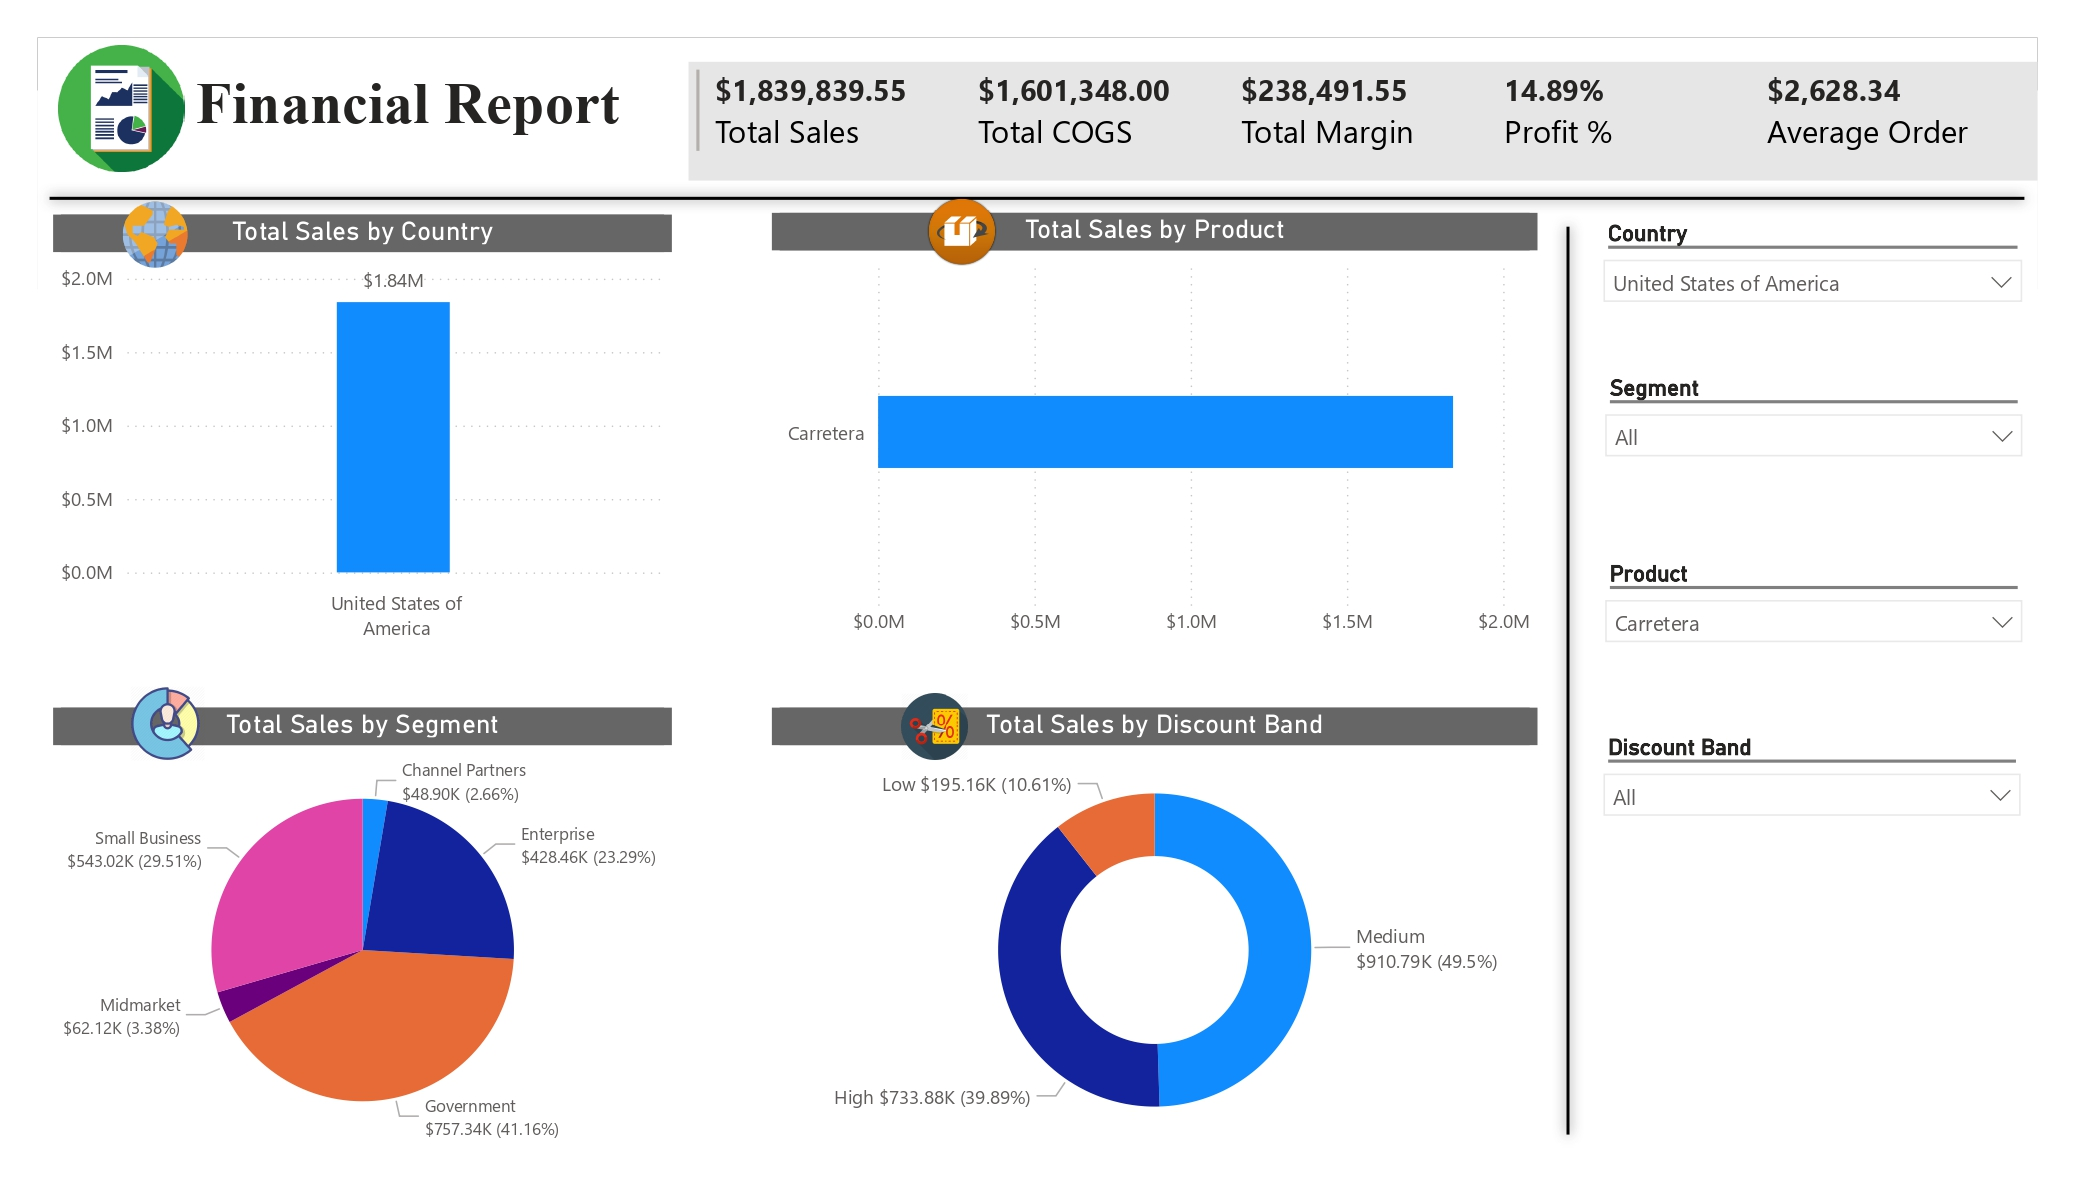

The page's visual inventory and layout, read from the dashboard file:
{"tool":"powerbi","page":{"name":"Financial Report","canvas":[1280,720],"ordinal":0},"visuals":[{"type":"textbox","box":[97,15,328,280],"z":0},{"type":"image","box":[0,0,107,91],"z":1000},{"type":"multiRowCard","fields":{"Values":["All Measures.Total Sales","All Measures.Total COGS","All Measures.Total Margin","All Measures.Profit %","All Measures.Average Order"]},"box":[416.2,15,863.8,76.2],"z":1001},{"type":"shape","box":[0,64,1280,77],"z":1002},{"type":"columnChart","fields":{"Category":["financials.Country"],"Y":["All Measures.Total Sales"]},"box":[10,112.9,396.4,280],"z":1003},{"type":"slicer","fields":{"Values":["financials.Country"]},"box":[992.5,112.5,287.5,86.2],"z":1004},{"type":"pieChart","fields":{"Category":["financials.Segment"],"Y":["All Measures.Total Sales"]},"box":[10,428.8,396.2,291.2],"z":1005},{"type":"clusteredBarChart","fields":{"Category":["financials.Product"],"Y":["All Measures.Total Sales"]},"box":[470,112.5,490,280],"z":1006},{"type":"donutChart","fields":{"Category":["financials.Discount Band"],"Y":["All Measures.Total Sales"]},"box":[470,428.8,490,291.2],"z":1007},{"type":"image","box":[27.1,95,97.1,60.7],"z":1008},{"type":"image","box":[536.9,414.6,74.6,53.1],"z":1009},{"type":"image","box":[551,96,81,57],"z":1010},{"type":"image","box":[41,410,83,58],"z":1011},{"type":"slicer","fields":{"Values":["financials.Segment"]},"box":[993,211,287,83],"z":1012},{"type":"slicer","fields":{"Values":["financials.Product"]},"box":[993,330,287,109],"z":1013},{"type":"slicer","fields":{"Values":["financials.Discount Band"]},"box":[992,441,287,86],"z":1015},{"type":"shape","box":[837.1,112.9,285.7,597.1],"z":1016}]}

Visuals, with their boxes in screenshot pixels (x1, y1, x2, y2):
textbox: [189, 61, 702, 498]
image: [38, 38, 205, 180]
multiRowCard - All Measures.Total Sales x All Measures.Total COGS: [688, 61, 2038, 180]
shape: [38, 138, 2038, 258]
columnChart - financials.Country x All Measures.Total Sales: [53, 214, 672, 651]
slicer - financials.Country: [1588, 213, 2038, 348]
pieChart - financials.Segment x All Measures.Total Sales: [53, 708, 672, 1162]
clusteredBarChart - financials.Product x All Measures.Total Sales: [772, 213, 1538, 651]
donutChart - financials.Discount Band x All Measures.Total Sales: [772, 708, 1538, 1162]
image: [80, 186, 232, 281]
image: [876, 685, 993, 768]
image: [898, 188, 1025, 277]
image: [102, 678, 231, 769]
slicer - financials.Segment: [1589, 367, 2038, 497]
slicer - financials.Product: [1589, 553, 2038, 723]
slicer - financials.Discount Band: [1588, 727, 2036, 861]
shape: [1345, 214, 1792, 1147]
